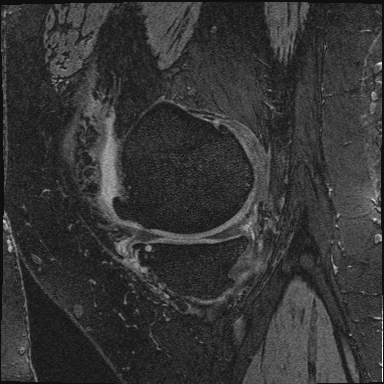effusion: (101, 136, 117, 205)
